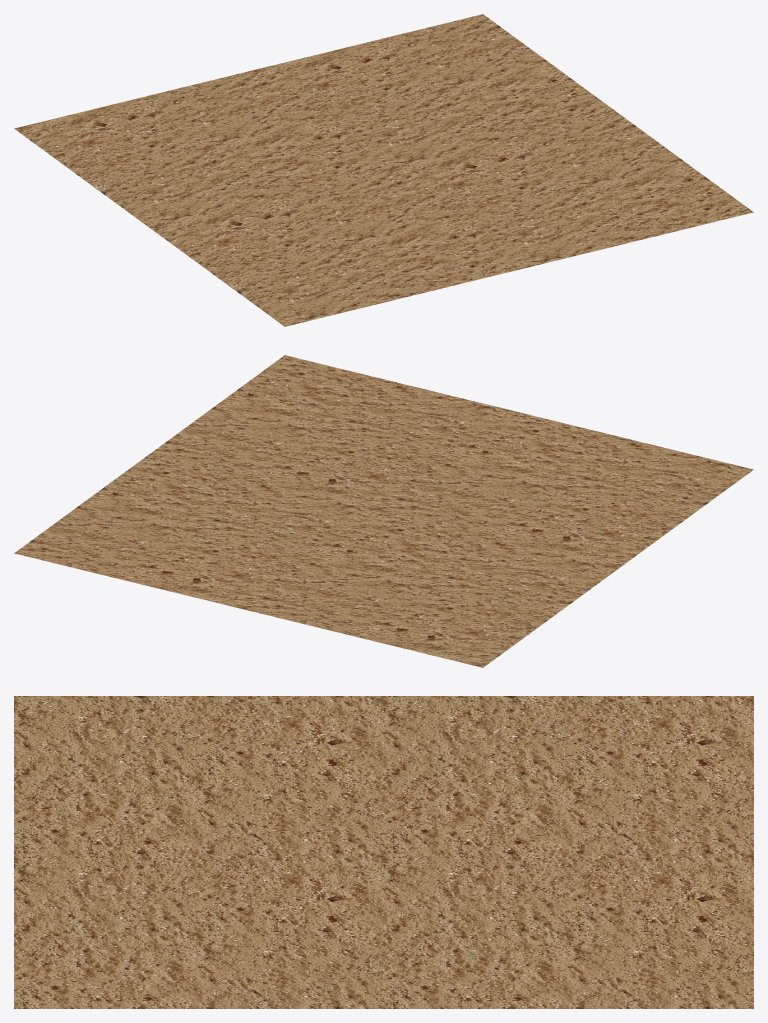
The model's file is field.obj.
The picture shows the model from 3 angles, top to bottom: view 1: azimuth 30°, elevation 25°; view 2: azimuth 150°, elevation 25°; view 3: azimuth 270°, elevation 25°; orthographic projection. The views are drawn at different scales.
Visible parts, largest first — view 1: obj2; view 2: obj2; view 3: obj2.
Part boxes in pixels (left/top/right/bottom): obj2: left=14, top=14, right=753, bottom=326; obj2: left=14, top=355, right=753, bottom=667; obj2: left=14, top=696, right=753, bottom=1008.
Bounding box in the file's own units: 400 × 0 × 400.
Materials: 1 (1 with a texture image).
